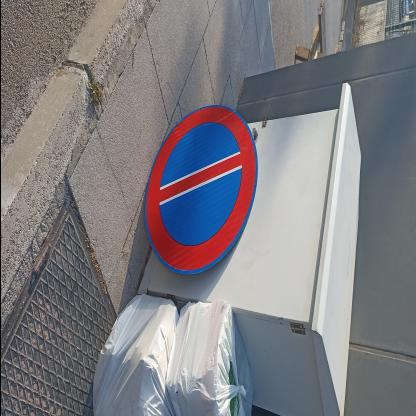No Waiting: (144, 104, 258, 278)
